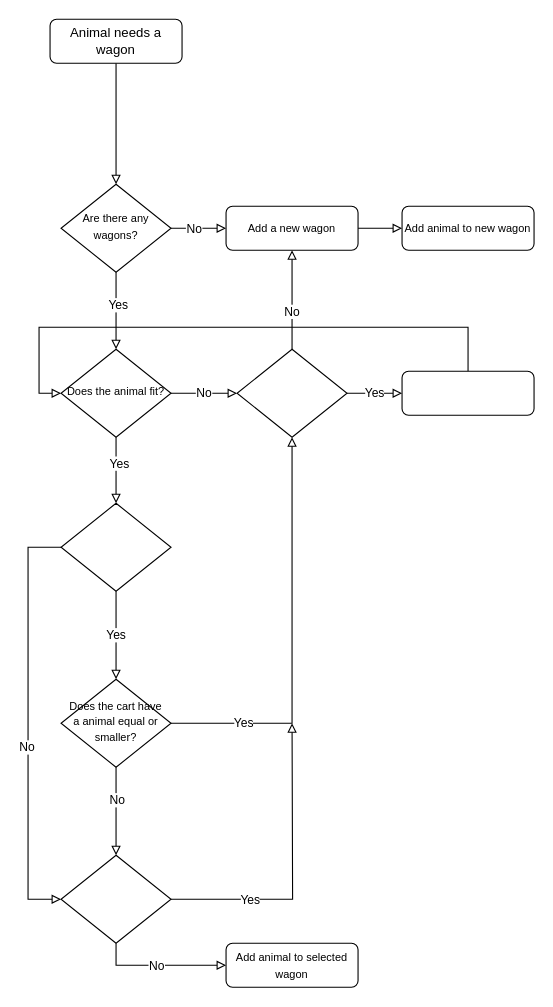
Image size: 553x1007. Some labels were removed from this diagram. The shapes that lost their labels are listed below. From the top down, each one's centre as x and y in pixels, then its label:
At pixel 291 392: "Any wagons left?".
At pixel 467 392: "Select next wagon".
At pixel 115 546: "Is this animal a meat eater?".
At pixel 115 898: "Does the cart have a animal equal or bigger that eats meat?".
